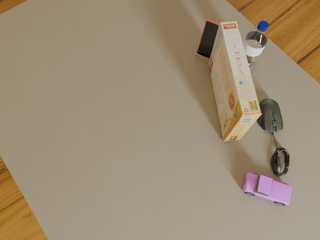bottle: (243, 21, 268, 71)
box: (209, 21, 261, 142)
mouse: (257, 99, 283, 136)
phone: (197, 19, 219, 59)
toy_car: (243, 173, 292, 205)
